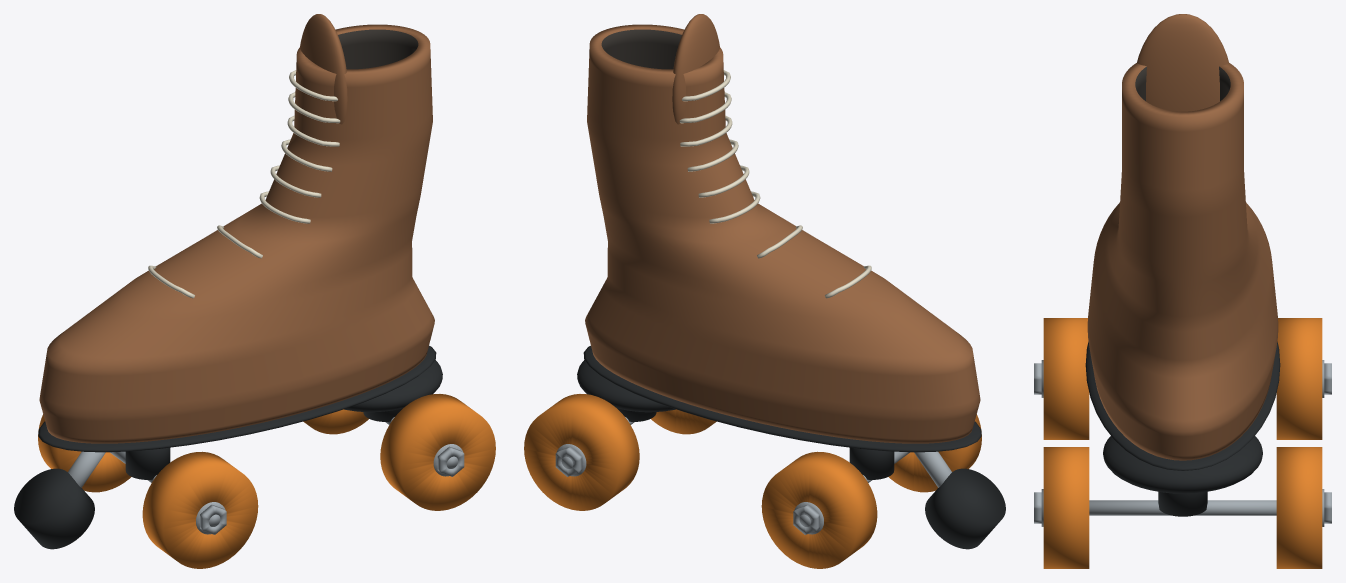
3 renders of one model, left to right at view 1: azimuth 30°, elevation 25°; view 2: azimuth 150°, elevation 25°; view 3: azimuth 270°, elevation 25°, orthographic. The views are drawn at different scales.
Parts seen in each view (by area): view 1: Hollow lace-up skate boot, Rotating quad wheel 0 -1, Rotating quad wheel 1 -1, Front toe brake, Rubber outsole, Raised boot tongue, Rotating quad wheel 0 1, Rear heel block, Kingpin cushion 0, Rotating quad wheel 1 1, Toe stop threaded support; view 2: Hollow lace-up skate boot, Rotating quad wheel 0 1, Rotating quad wheel 1 1, Front toe brake, Rubber outsole, Raised boot tongue, Rotating quad wheel 0 -1, Rear heel block, Kingpin cushion 0, Rotating quad wheel 1 -1, Toe stop threaded support; view 3: Hollow lace-up skate boot, Raised boot tongue, Rotating quad wheel 1 -1, Rotating quad wheel 1 1, Rotating quad wheel 0 -1, Rotating quad wheel 0 1, Rear heel block, Rubber outsole, Transverse axle 1, Kingpin cushion 1.
Boxes of the visible parts, bbox=[...] form: Hollow lace-up skate boot: bbox=[39, 24, 434, 443]; Rotating quad wheel 0 -1: bbox=[142, 451, 258, 568]; Rotating quad wheel 1 -1: bbox=[380, 394, 495, 510]; Front toe brake: bbox=[14, 468, 94, 549]; Rubber outsole: bbox=[38, 345, 436, 452]; Raised boot tongue: bbox=[300, 14, 347, 124]; Rotating quad wheel 0 1: bbox=[38, 414, 131, 492]; Rear heel block: bbox=[344, 360, 442, 412]; Kingpin cushion 0: bbox=[125, 447, 170, 479]; Rotating quad wheel 1 1: bbox=[303, 409, 368, 434]; Toe stop threaded support: bbox=[68, 451, 105, 487]; Hollow lace-up skate boot: bbox=[585, 24, 980, 443]; Rotating quad wheel 0 1: bbox=[761, 451, 877, 568]; Rotating quad wheel 1 1: bbox=[524, 394, 639, 510]; Front toe brake: bbox=[925, 468, 1005, 549]; Rubber outsole: bbox=[583, 345, 981, 452]; Raised boot tongue: bbox=[672, 14, 719, 124]; Rotating quad wheel 0 -1: bbox=[888, 414, 981, 492]; Rear heel block: bbox=[577, 360, 675, 412]; Kingpin cushion 0: bbox=[849, 447, 894, 479]; Rotating quad wheel 1 -1: bbox=[651, 409, 716, 434]; Toe stop threaded support: bbox=[914, 451, 951, 487]; Hollow lace-up skate boot: bbox=[1087, 63, 1278, 460]; Raised boot tongue: bbox=[1137, 14, 1228, 111]; Rotating quad wheel 1 -1: bbox=[1043, 447, 1089, 568]; Rotating quad wheel 1 1: bbox=[1276, 447, 1322, 568]; Rotating quad wheel 0 -1: bbox=[1043, 318, 1089, 439]; Rotating quad wheel 0 1: bbox=[1276, 318, 1322, 439]; Rear heel block: bbox=[1103, 436, 1262, 493]; Rubber outsole: bbox=[1085, 341, 1280, 470]; Transverse axle 1: bbox=[1089, 500, 1276, 515]; Kingpin cushion 1: bbox=[1158, 491, 1207, 516].
Bounding box in the file's own units: 0.2785 × 0.298 × 0.156.
